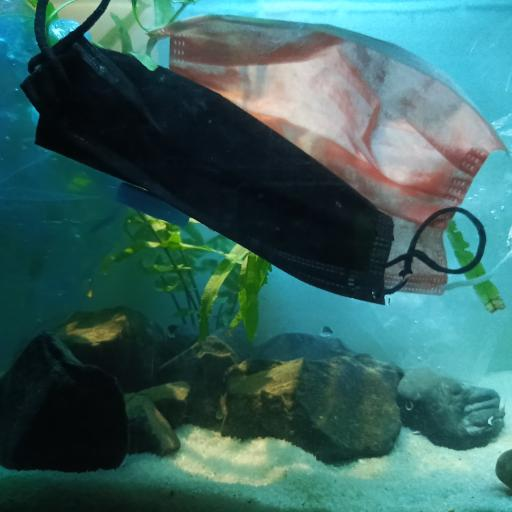mask: (20, 25, 480, 297), (152, 15, 480, 296)
